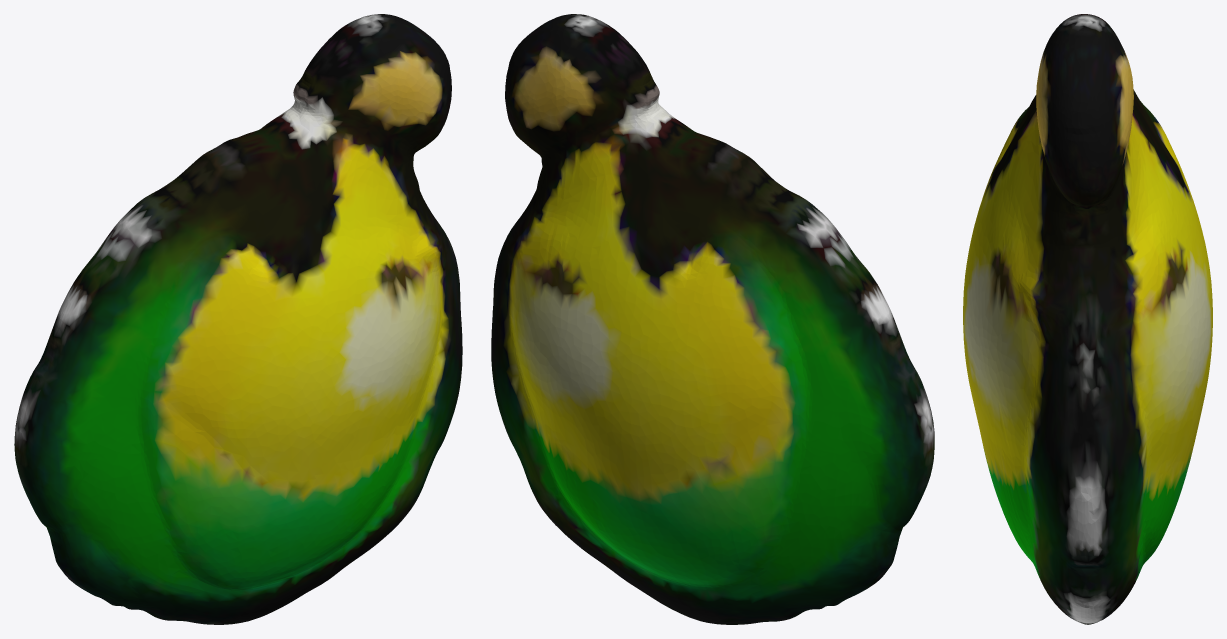
Rendered from potionimp.glb.
3 renders of one model, left to right at view 1: azimuth 30°, elevation 25°; view 2: azimuth 150°, elevation 25°; view 3: azimuth 270°, elevation 25°, orthographic. The views are drawn at different scales.
Visible parts, largest first — view 1: geometry_0; view 2: geometry_0; view 3: geometry_0.
Boxes of the visible parts, x1,y1,x2,y2 form: geometry_0: (14,14,462,624); geometry_0: (491,14,934,624); geometry_0: (963,14,1212,624).
Bounding box in the file's own units: 0.375 × 0.4669 × 0.1611.
